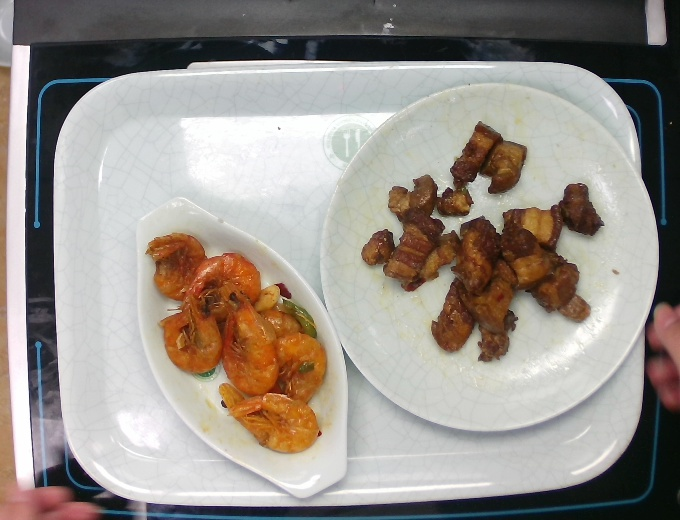JYsf-Da_Yuan_Pan: (314, 81, 661, 436)
JYsf-Yu_Pan: (133, 197, 355, 499)
